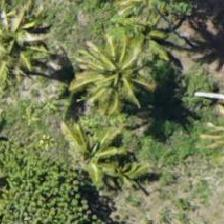coconut_tree: (67, 22, 157, 112), (55, 106, 145, 196), (0, 0, 50, 83)
